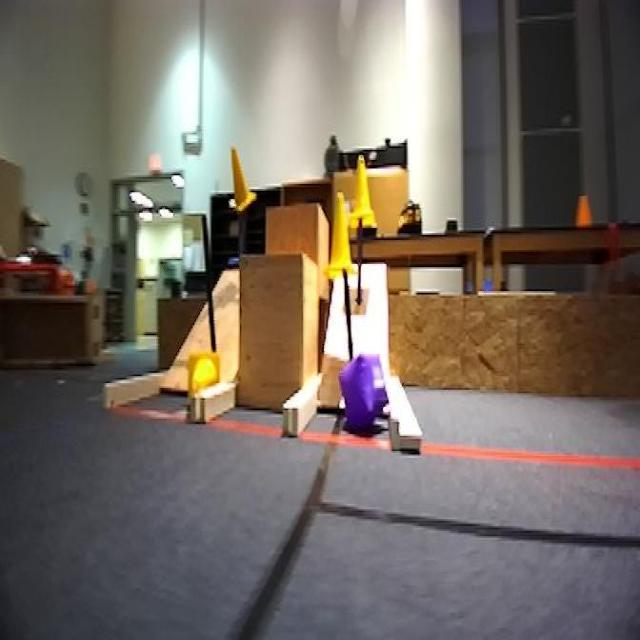frc_cone: (324, 190, 356, 276), (226, 148, 257, 220), (186, 351, 224, 400), (351, 150, 374, 220)
frc_cube: (338, 354, 389, 429)
